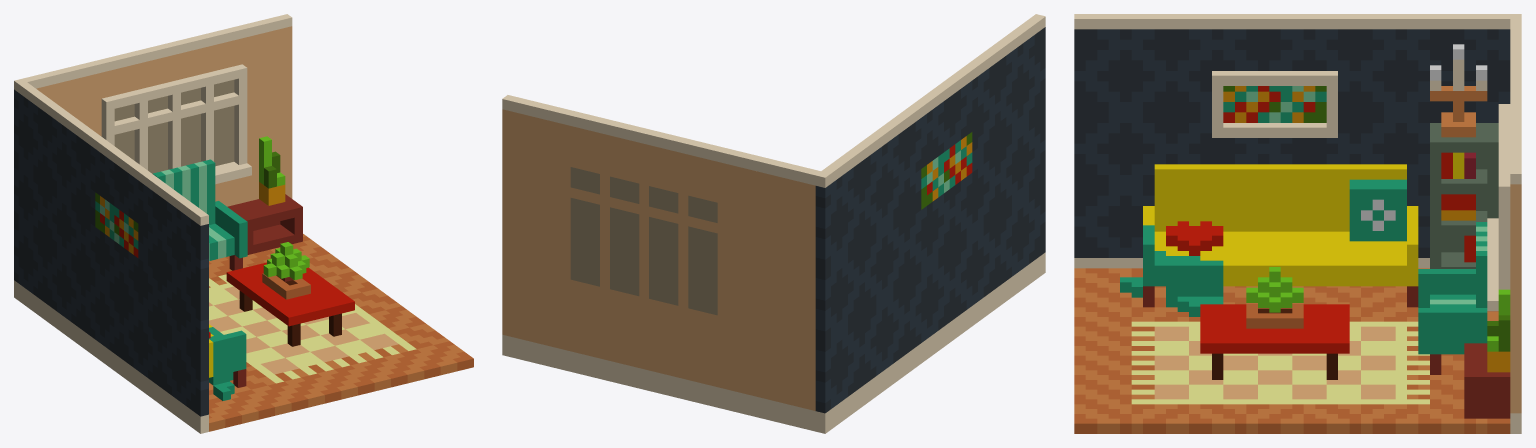
Rendered from lv50 room (1).fbx.
The picture shows the model from 3 angles, left to right: view 1: azimuth 30°, elevation 25°; view 2: azimuth 150°, elevation 25°; view 3: azimuth 270°, elevation 25°; orthographic projection. The views are drawn at different scales.
Size of the model in its own units: 33 by 25 by 39.
